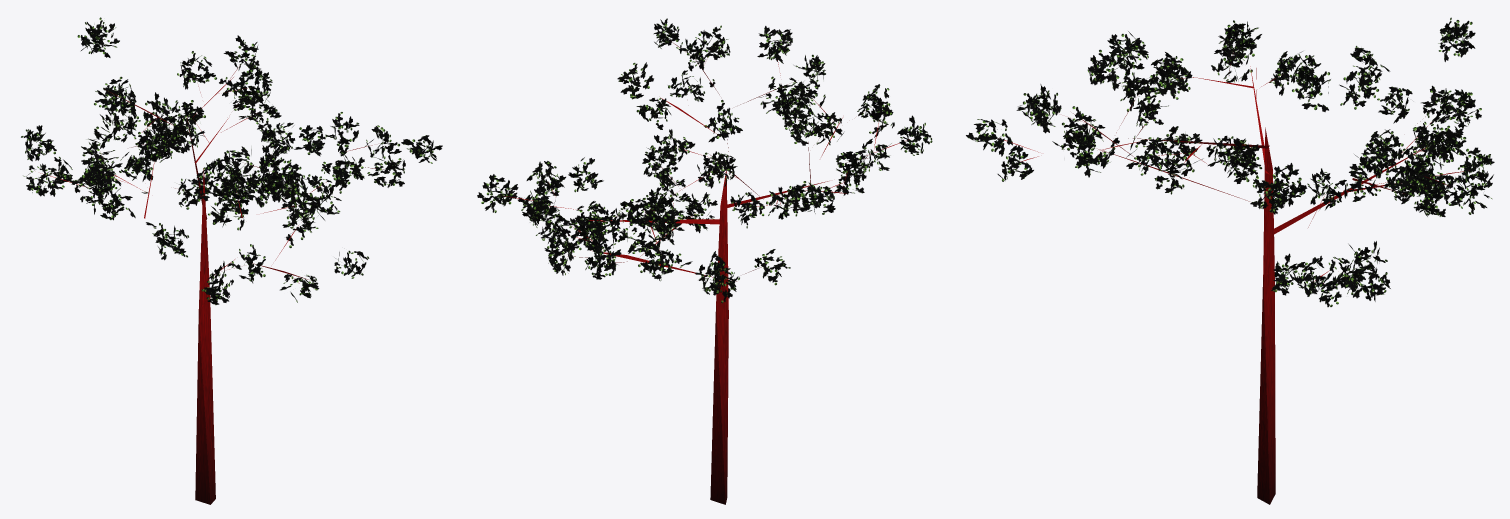
Rendered from pine_open_v03_LOD2.glb.
3 views of the same model, side by side, from view 1: azimuth 30°, elevation 25°; view 2: azimuth 150°, elevation 25°; view 3: azimuth 270°, elevation 25° (orthographic). The views are drawn at different scales.
Parts seen in each view (by area): view 1: pine_open_v03_LOD2; view 2: pine_open_v03_LOD2; view 3: pine_open_v03_LOD2.
Part boxes in pixels (x1,y1,x2,y2): pine_open_v03_LOD2: [21, 17, 442, 504]; pine_open_v03_LOD2: [477, 18, 932, 504]; pine_open_v03_LOD2: [966, 17, 1494, 504].
Bounding box in the file's own units: 20.95 × 28.03 × 28.59.
2 materials, 2 textured.
